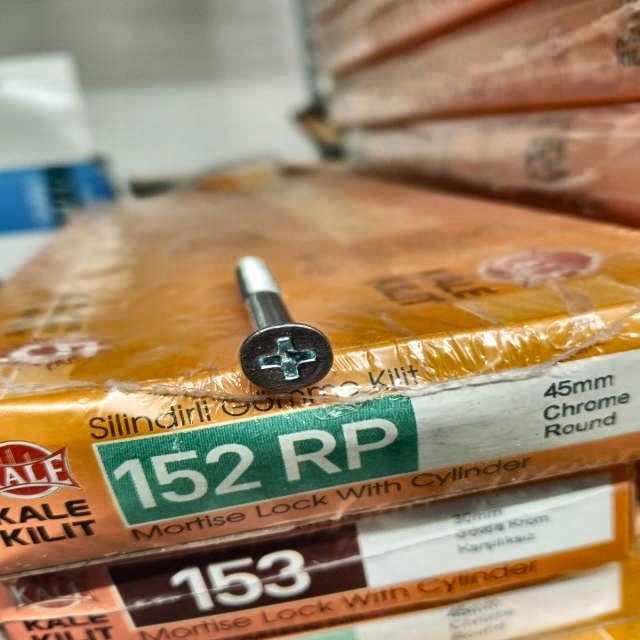phillips: (238, 325, 334, 393)
